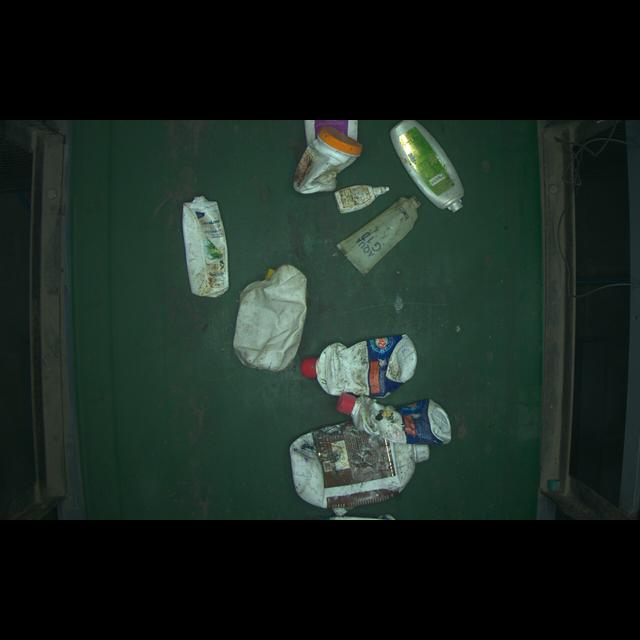mix PET: (234, 246, 308, 377), (301, 337, 413, 400), (392, 117, 467, 211), (175, 191, 231, 300), (335, 182, 390, 214)
